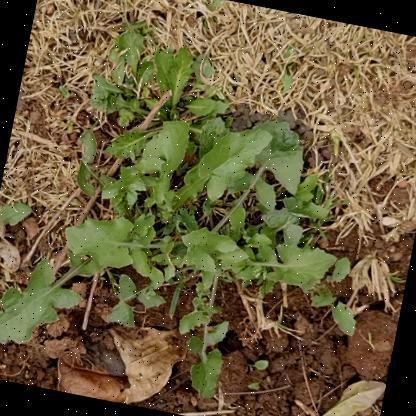Weeds: (0, 14, 401, 415)
